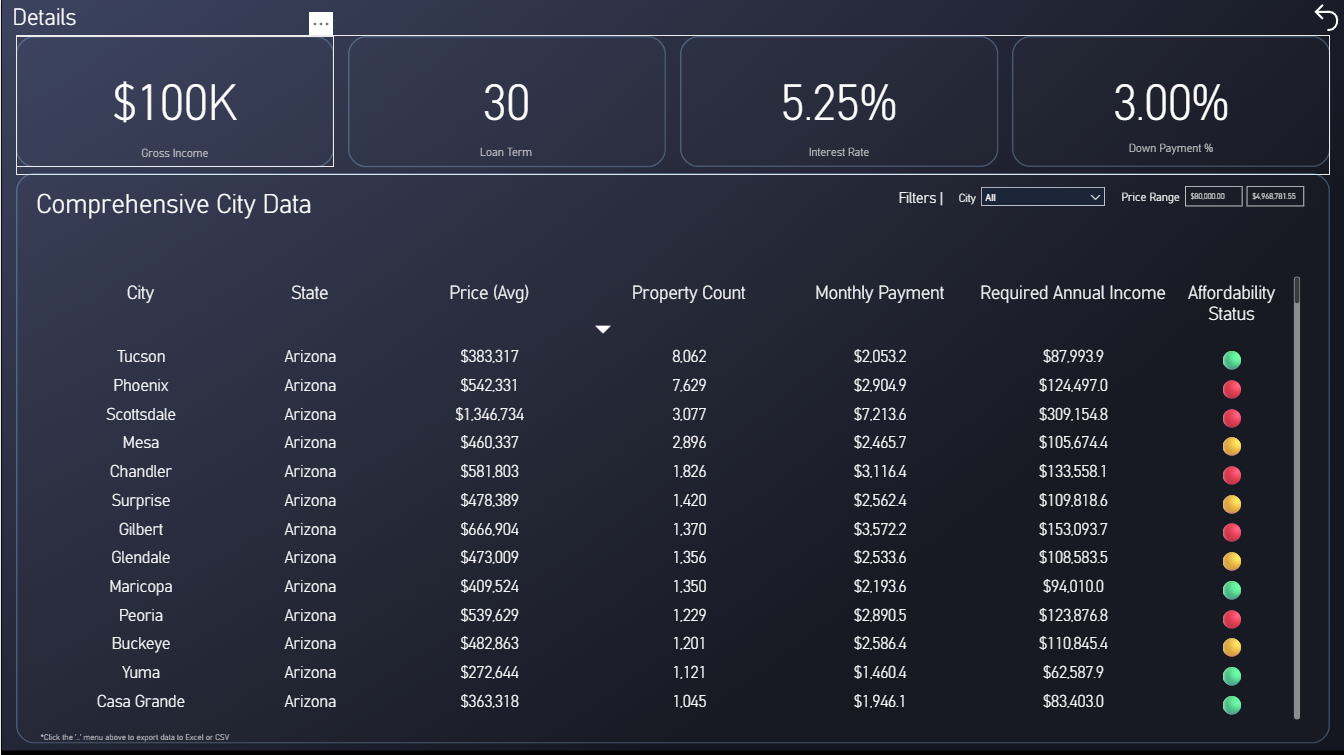

What the dashboard file says about the page in this screenshot:
{"tool":"powerbi","page":{"name":"Details","canvas":[1920,1080],"ordinal":1},"visuals":[{"type":"group","id":"g1","title":"Gross Income","box":[21,50,454.3,200],"z":0,"group":"g7"},{"type":"textbox","box":[1563.9,195.7,213.7,54.1],"z":0,"group":"g6"},{"type":"textbox","box":[635.1,201,174.4,47.9],"z":0,"group":"g3"},{"type":"textbox","box":[160.9,202.1,174.4,47.9],"z":0,"group":"g1"},{"type":"textbox","box":[1109.5,202.2,174.4,47.9],"z":0,"group":"g5"},{"type":"group","id":"g2","title":"City Filter","box":[1339.6,256.1,246.7,40],"z":0,"group":"g9"},{"type":"textbox","title":"Note","box":[50.8,1038.9,288.6,26.8],"z":500,"group":"g8"},{"type":"cardVisual","fields":{"Data":["Your Gross Household Income.Your Gross Household Income Value"]},"box":[21,50,454.3,188.8],"z":1000,"group":"g1"},{"type":"group","id":"g3","title":"Loan Length","box":[494.4,50,455.8,198.9],"z":1000,"group":"g7"},{"type":"cardVisual","fields":{"Data":["Loan Term (Years).Loan Term (Years) Value"]},"box":[494.4,50,455.8,187.6],"z":1000,"group":"g3"},{"type":"cardVisual","fields":{"Data":["Interest Rate %.Interest Rate % Value"]},"box":[969.6,50.1,454.3,187.6],"z":1000,"group":"g5"},{"type":"shape","box":[1443.3,50.8,454.8,187.2],"z":1000,"group":"g6"},{"type":"shape","box":[21.4,247.1,1877.1,815.1],"z":1000,"group":"g8"},{"type":"group","id":"g4","title":"Price Range Filter","box":[1569.7,255,304.7,50.3],"z":1000,"group":"g9"},{"type":"textbox","box":[1569.7,264.6,118.9,31.1],"z":1000,"group":"g4"},{"type":"textbox","box":[1339.6,266.4,57.8,29.7],"z":1000,"group":"g2"},{"type":"textbox","box":[1275,264,76.7,34.4],"z":1500,"group":"g9"},{"type":"group","id":"g5","title":"Interest Rate","box":[969.3,50.1,454.8,199.9],"z":2000,"group":"g7"},{"type":"shape","box":[21,51.2,454.3,187.6],"z":2000,"group":"g1"},{"type":"shape","box":[495.1,51.2,454.3,187.6],"z":2000,"group":"g3"},{"type":"cardVisual","fields":{"Data":["Down Payment %.Down Payment % Value"]},"box":[1443.6,51.2,454.3,186.4],"z":2000,"group":"g6"},{"type":"shape","box":[969.3,51.5,454.8,187.2],"z":2000,"group":"g5"},{"type":"slicer","fields":{"Values":["avg_price_by_city.avg_price"]},"box":[1678.9,255,195.5,50.3],"z":2000,"group":"g4"},{"type":"slicer","fields":{"Values":["avg_price_by_city.city"]},"box":[1389.6,256.1,196.7,40],"z":2000,"group":"g2"},{"type":"textbox","box":[45.2,262.4,470.6,72.2],"z":2000,"group":"g8"},{"type":"group","id":"g6","title":"Down Payment %","box":[1443.3,50.8,454.8,199.1],"z":3000,"group":"g7"},{"type":"tableEx","fields":{"Values":["avg_price_by_city.city","avg_price_by_city.state","avg_price_by_city.avg_price","avg_price_by_city.property_count","_Measures.Monthly Payment","_Measures.Required Annual Income","_Measures.Affordability Status"]},"box":[60,389.4,1800.8,642.8],"z":3000,"group":"g8"},{"type":"group","id":"g7","title":"Parameter Cards","box":[21,50,1877.1,200],"z":5000},{"type":"group","id":"g8","title":"Table","box":[21.4,247.1,1877.1,818.6],"z":6000},{"type":"group","id":"g9","title":"Comprehensive Data Filters","box":[1275,255,599.4,50.3],"z":6000,"group":"g10"},{"type":"group","id":"g10","title":"Filters","box":[1275,255,599.4,50.3],"z":7000},{"type":"actionButton","box":[1868,0,51.4,50],"z":8000},{"type":"textbox","box":[11.4,0,115.7,51.4],"z":9000}]}

Visuals, with their boxes in screenshot pixels (x1, y1, x2, y2), scaled from the page's 1920x1080 canvas onto the 1344x755 screenshot:
"Gross Income" group: box=[15, 35, 333, 175]
textbox: box=[1095, 137, 1244, 175]
textbox: box=[445, 141, 567, 174]
textbox: box=[113, 141, 235, 175]
textbox: box=[777, 141, 899, 175]
"City Filter" group: box=[938, 179, 1110, 207]
"Note" textbox: box=[36, 726, 238, 745]
cardVisual - Your Gross Household Income.Your Gross Household Income Value: box=[15, 35, 333, 167]
"Loan Length" group: box=[346, 35, 665, 174]
cardVisual - Loan Term (Years).Loan Term (Years) Value: box=[346, 35, 665, 166]
cardVisual - Interest Rate %.Interest Rate % Value: box=[679, 35, 997, 166]
shape: box=[1010, 36, 1329, 166]
shape: box=[15, 173, 1329, 743]
"Price Range Filter" group: box=[1099, 178, 1312, 213]
textbox: box=[1099, 185, 1182, 207]
textbox: box=[938, 186, 978, 207]
textbox: box=[892, 185, 946, 209]
"Interest Rate" group: box=[679, 35, 997, 175]
shape: box=[15, 36, 333, 167]
shape: box=[347, 36, 665, 167]
cardVisual - Down Payment %.Down Payment % Value: box=[1011, 36, 1329, 166]
shape: box=[679, 36, 997, 167]
slicer - avg_price_by_city.avg_price: box=[1175, 178, 1312, 213]
slicer - avg_price_by_city.city: box=[973, 179, 1110, 207]
textbox: box=[32, 183, 361, 234]
"Down Payment %" group: box=[1010, 36, 1329, 175]
tableEx - avg_price_by_city.city x avg_price_by_city.state: box=[42, 272, 1303, 722]
"Parameter Cards" group: box=[15, 35, 1329, 175]
"Table" group: box=[15, 173, 1329, 745]
"Comprehensive Data Filters" group: box=[892, 178, 1312, 213]
"Filters" group: box=[892, 178, 1312, 213]
actionButton: box=[1308, 0, 1343, 35]
textbox: box=[8, 0, 89, 36]
